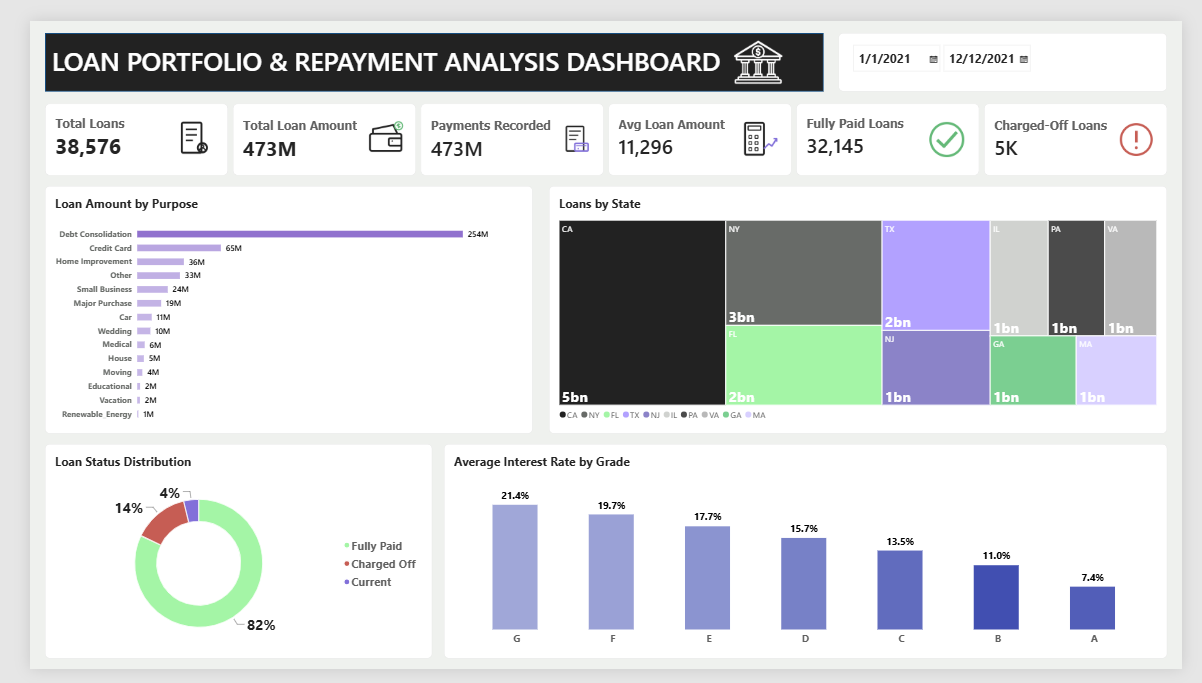

Layout of this report page (visuals, bound fields, positions):
{"tool":"powerbi","page":{"name":"Loan Overview","canvas":[1920,1080],"ordinal":0},"visuals":[{"type":"donutChart","title":"Loan Status Distribution","fields":{"Category":["Bank_Loan_data.loan_status"],"Y":["Sum(Bank_Loan_data.ID)"]},"box":[25,705,645,357.5],"z":1000},{"type":"barChart","title":"Loan Amount by Purpose","fields":{"Category":["Bank_Loan_data.purpose"],"Y":["Bank_Loan_data.Total Loan Amount"]},"box":[25,275,812.5,412.5],"z":2000},{"type":"treemap","title":"Loans by State","fields":{"Group":["Bank_Loan_data.Address_State"],"Values":["Sum(Bank_Loan_data.ID)"]},"box":[865,275,1030,412.5],"z":3000},{"type":"clusteredColumnChart","title":"Average Interest Rate by Grade","fields":{"Category":["Bank_Loan_data.grade"],"Y":["Bank_Loan_data.Avrage Int"]},"box":[690,705,1205,357.5],"z":4000},{"type":"shape","box":[25,20,1297.5,97.5],"z":5000},{"type":"textbox","box":[25,37.5,1247.5,75],"z":6000},{"type":"cardVisual","fields":{"Data":["Bank_Loan_data.Total Loans","Bank_Loan_data.Total Loan Amount","Bank_Loan_data.Total Payments Recorded","Bank_Loan_data.Average Loan Amount","Bank_Loan_data.Fully Paid Loans","Bank_Loan_data.Charged-Off Loans"]},"box":[25,137.5,1870,120],"z":6001},{"type":"image","box":[1080,27.5,267.5,82.5],"z":6002},{"type":"slicer","fields":{"Values":["Bank_Loan_data.issue_date"]},"box":[1347.5,20,547.5,97.5],"z":6003}]}

Visuals, with their boxes in screenshot pixels (x1, y1, x2, y2), scaled from the page's 1920x1080 canvas onto the 1202x683 screenshot:
"Loan Status Distribution" donutChart: <bbox>16, 446, 419, 672</bbox>
"Loan Amount by Purpose" barChart: <bbox>16, 174, 524, 435</bbox>
"Loans by State" treemap: <bbox>542, 174, 1186, 435</bbox>
"Average Interest Rate by Grade" clusteredColumnChart: <bbox>432, 446, 1186, 672</bbox>
shape: <bbox>16, 13, 828, 74</bbox>
textbox: <bbox>16, 24, 797, 71</bbox>
cardVisual - Bank_Loan_data.Total Loans x Bank_Loan_data.Total Loan Amount: <bbox>16, 87, 1186, 163</bbox>
image: <bbox>676, 17, 844, 70</bbox>
slicer - Bank_Loan_data.issue_date: <bbox>844, 13, 1186, 74</bbox>
